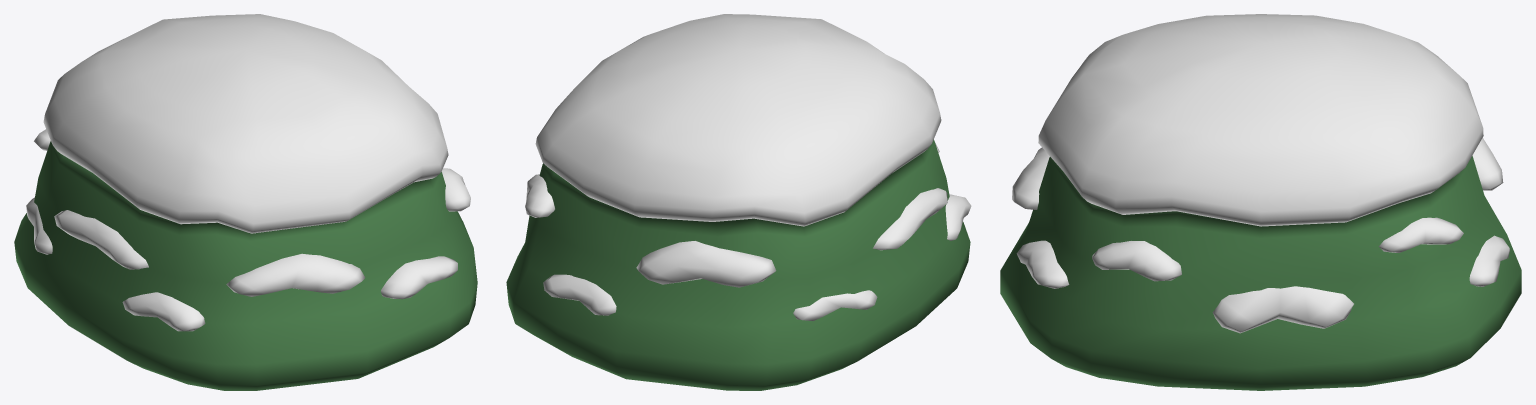
File: Bush.fbx
3 renders of one model, left to right at view 1: azimuth 30°, elevation 25°; view 2: azimuth 150°, elevation 25°; view 3: azimuth 270°, elevation 25°, orthographic. The views are drawn at different scales.
Parts seen in each view (by area): view 1: Bush; view 2: Bush; view 3: Bush.
Part boxes in pixels (x1=…): Bush: x1=14, y1=14, x2=477, y2=390; Bush: x1=506, y1=14, x2=971, y2=390; Bush: x1=1000, y1=14, x2=1521, y2=390.
Bounding box in the file's own units: 3.89 × 2.55 × 4.46.
